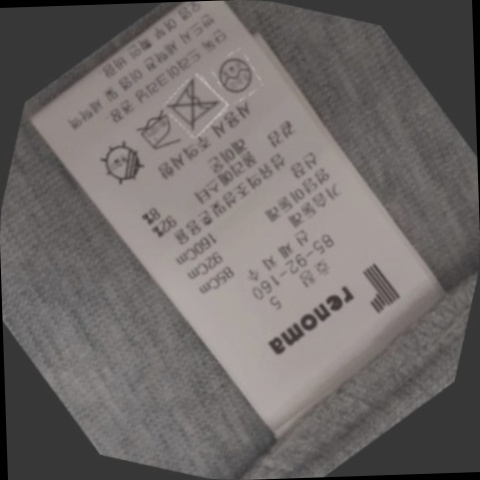DN_wash: (164, 76, 229, 134)
dry_clean_petrol_only: (212, 49, 263, 99)
iron_low: (129, 107, 186, 159)
line_dry_in_shade: (95, 137, 156, 192)
